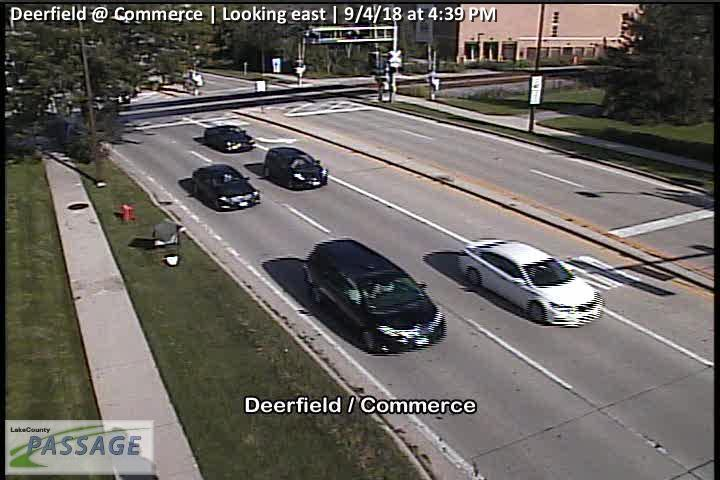Sedan: (304, 238, 447, 354), (458, 238, 604, 329), (191, 164, 261, 211), (262, 147, 329, 191), (204, 124, 255, 152)
